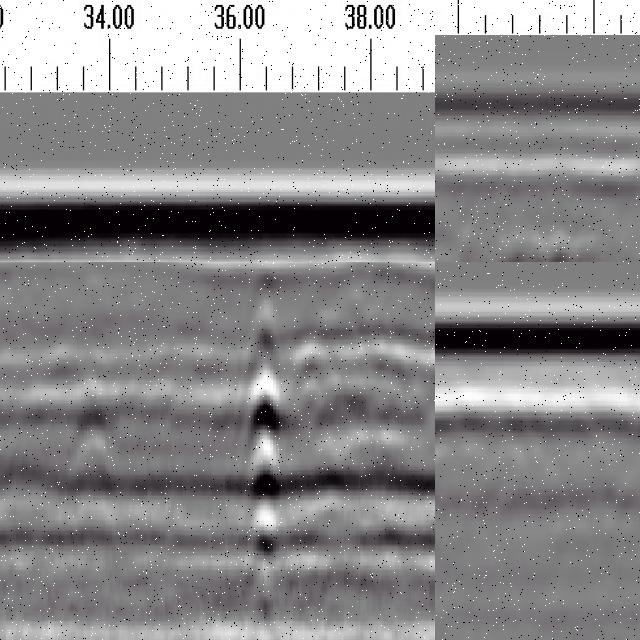crack: (243, 264, 283, 622), (436, 418, 455, 640)
